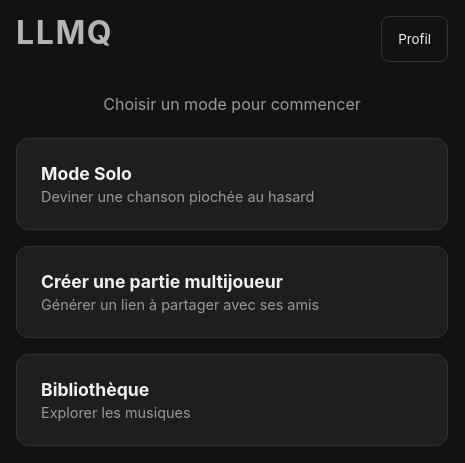
it: App — Random mode generation filter › choosing Mode Solo shows the generation filter before starting any round
The width and height of the screenshot is (465, 463).
Click the text "Mode Solo". click: (86, 173)
box: [41,163,132,184]
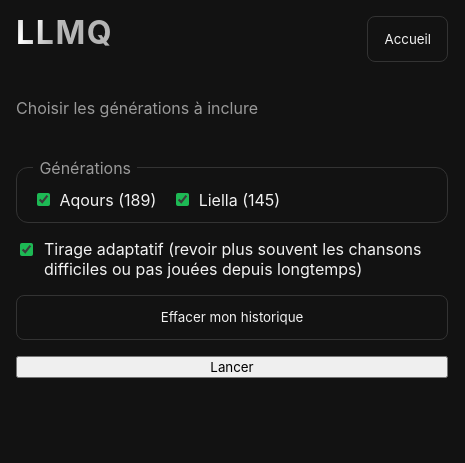
expect the checkbox labelled "Aqours (189)" is checked: met, box [37,193,50,206]
expect the checkbox labelled "Liella (145)" is checked: met, box [176,193,189,206]
